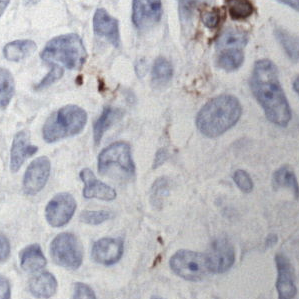Lymphocyte: (229, 1, 256, 21)
